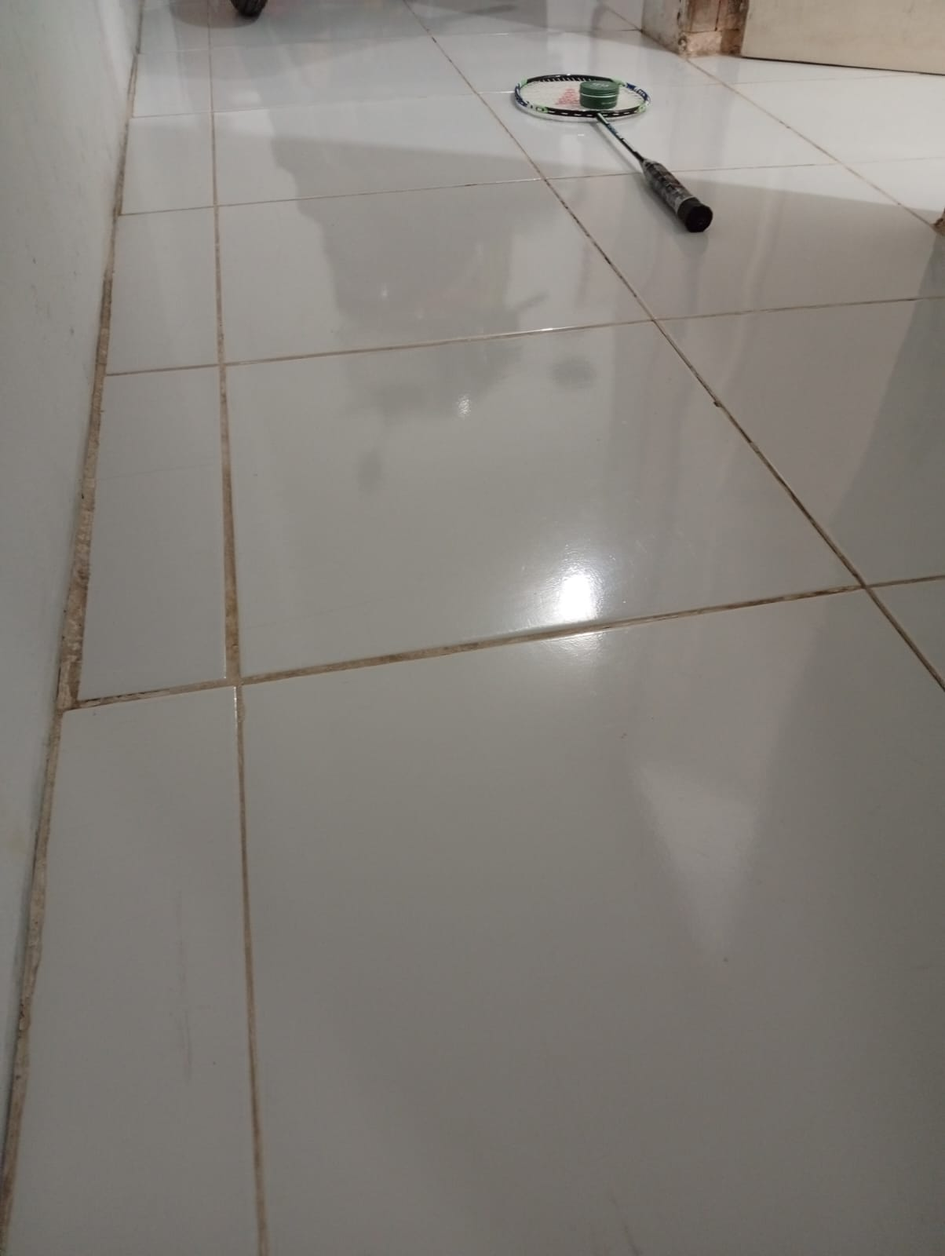Minyak_Rambut: (566, 65, 634, 113)
